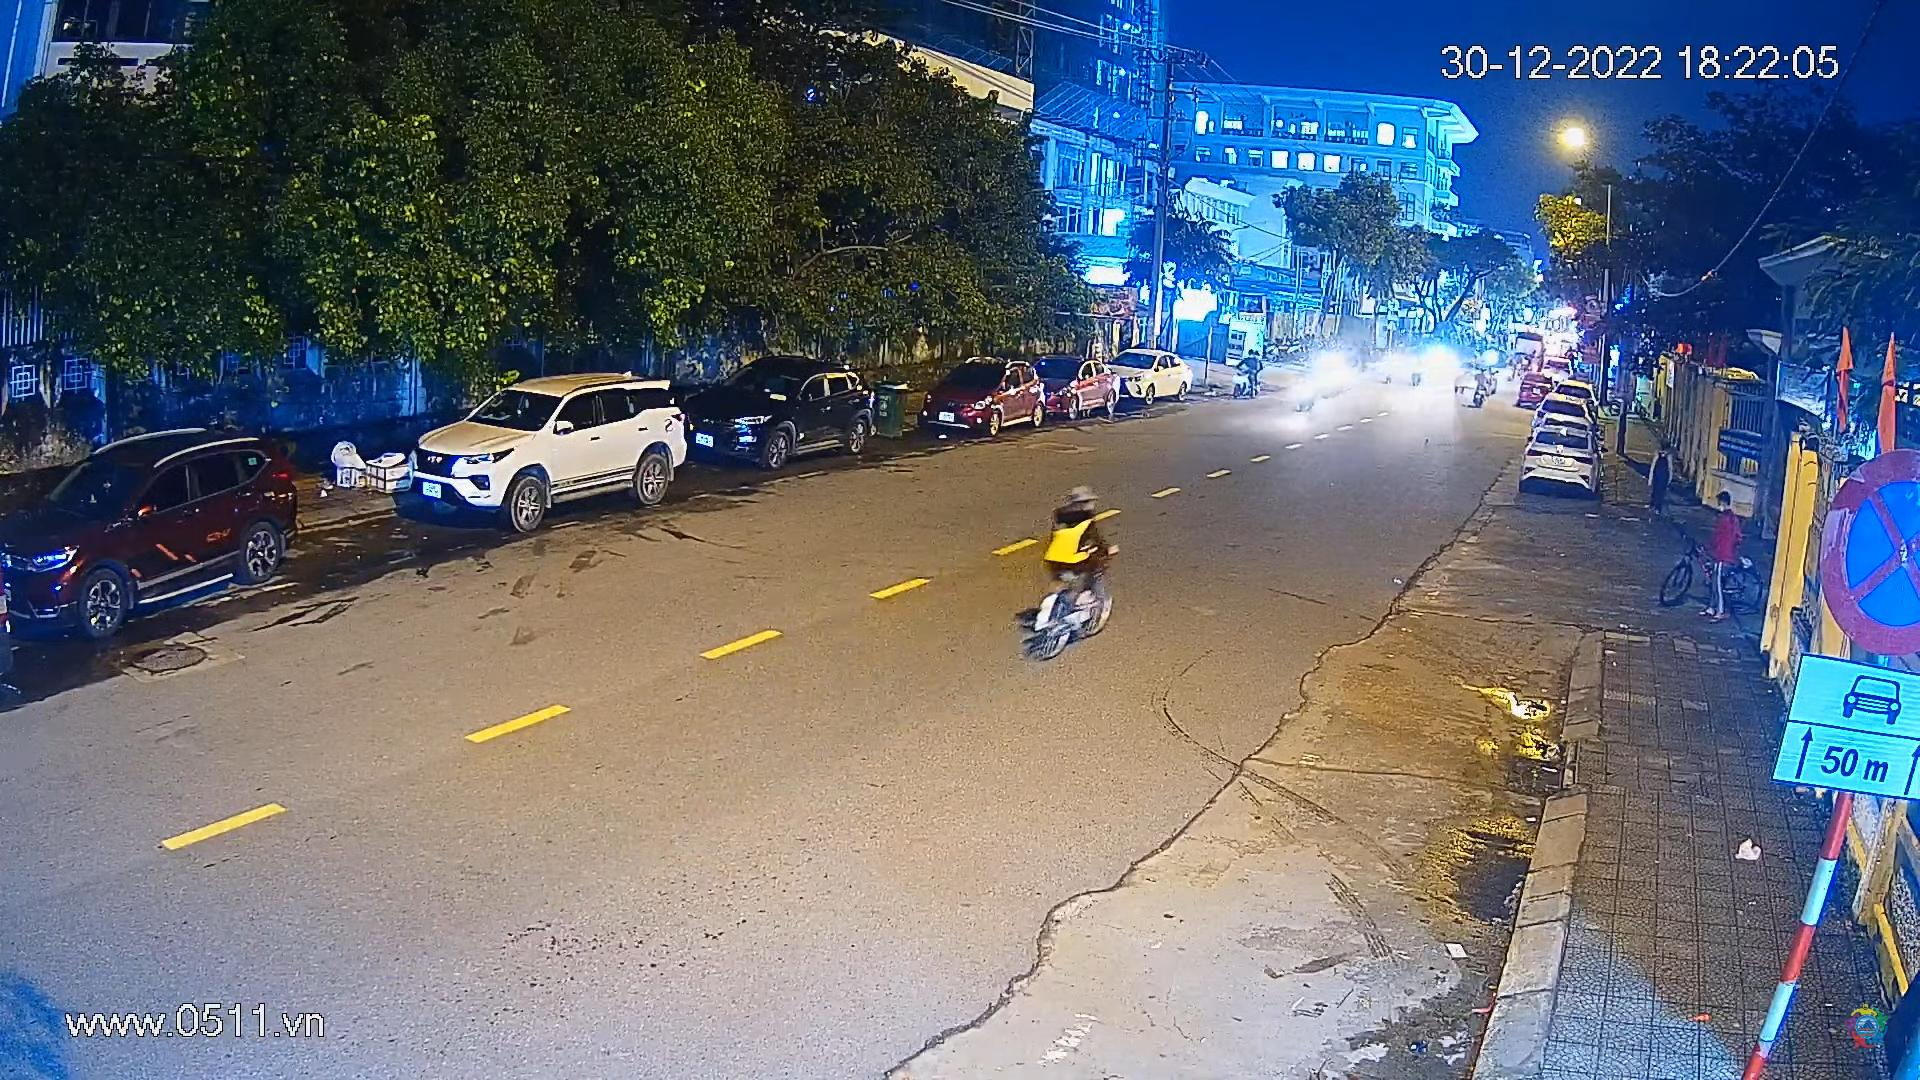bicycle: (1015, 481, 1126, 665), (1658, 485, 1767, 617)
car: (0, 419, 295, 657), (393, 367, 686, 538), (683, 347, 895, 479), (915, 342, 1054, 452), (1027, 347, 1118, 422), (1518, 422, 1598, 506), (1109, 338, 1197, 406), (1534, 392, 1592, 439), (1449, 363, 1494, 409), (1519, 371, 1552, 407)
motorcycle: (1288, 360, 1329, 418), (1232, 345, 1265, 402), (1470, 372, 1490, 410)
